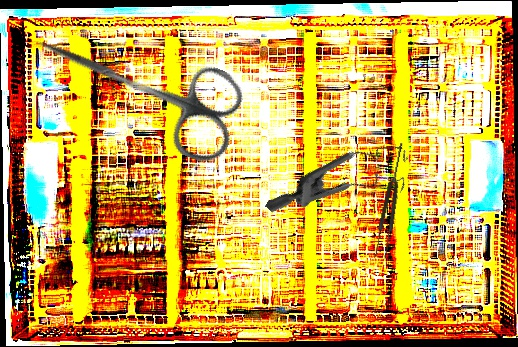Iris Scissors: (17, 1, 254, 170)
Speculum: (264, 104, 424, 268)
Tissue Forceps: (372, 141, 410, 260)
